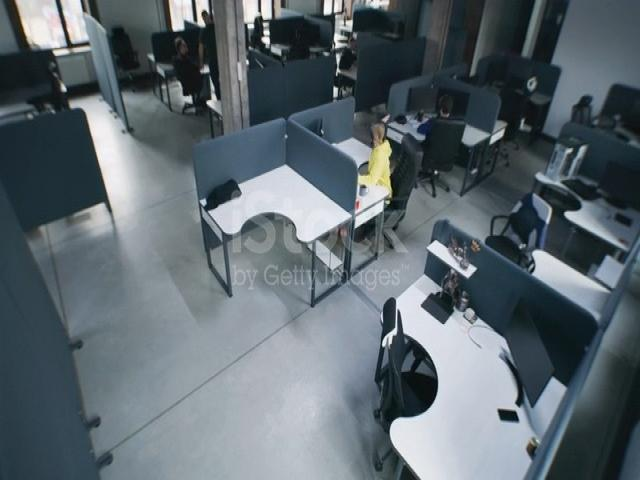empty chair: (365, 290, 430, 470), (488, 189, 549, 268), (101, 17, 147, 92), (30, 53, 80, 115), (505, 63, 529, 145), (569, 81, 607, 131)
occupiedchair: (353, 109, 421, 239), (419, 69, 461, 200), (160, 29, 212, 121), (326, 20, 368, 104)
